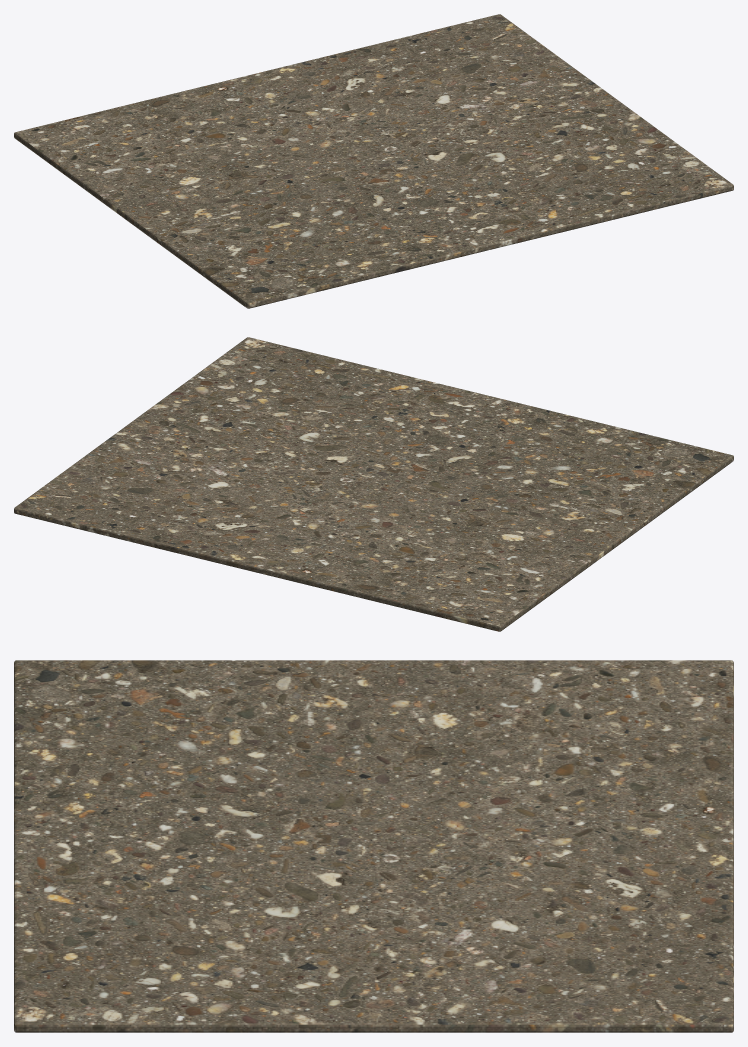
The model's file is Airfield_Runway_Slab_HQ23_LOD1.glb.
3 views of the same model, one above another, from view 1: azimuth 30°, elevation 25°; view 2: azimuth 150°, elevation 25°; view 3: azimuth 270°, elevation 25° (orthographic). The views are drawn at different scales.
Visible parts, largest first — view 1: Airfield Runway Slab 15x18 LOD1; view 2: Airfield Runway Slab 15x18 LOD1; view 3: Airfield Runway Slab 15x18 LOD1.
Boxes of the visible parts, bbox=[...] form: Airfield Runway Slab 15x18 LOD1: bbox=[14, 14, 733, 308]; Airfield Runway Slab 15x18 LOD1: bbox=[14, 337, 733, 631]; Airfield Runway Slab 15x18 LOD1: bbox=[14, 660, 733, 1032].
Size of the model in its own units: 18 by 0.22 by 15.
Materials: 1 (1 with a texture image).
